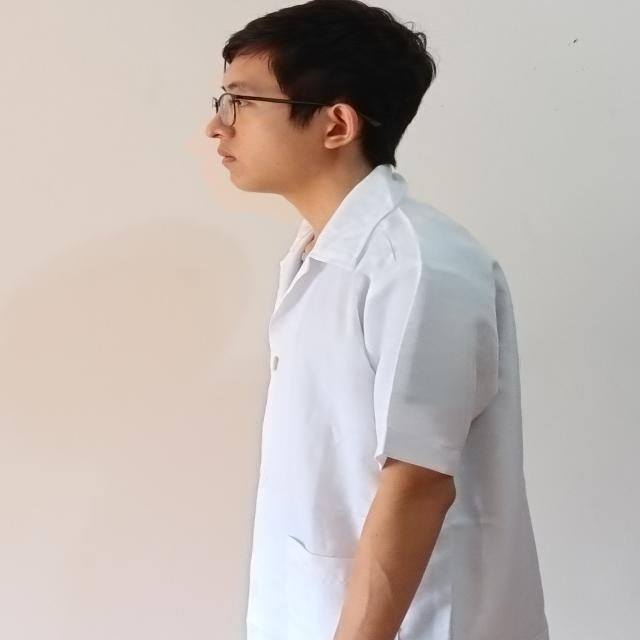person_with_labcoat: (206, 0, 549, 640)
